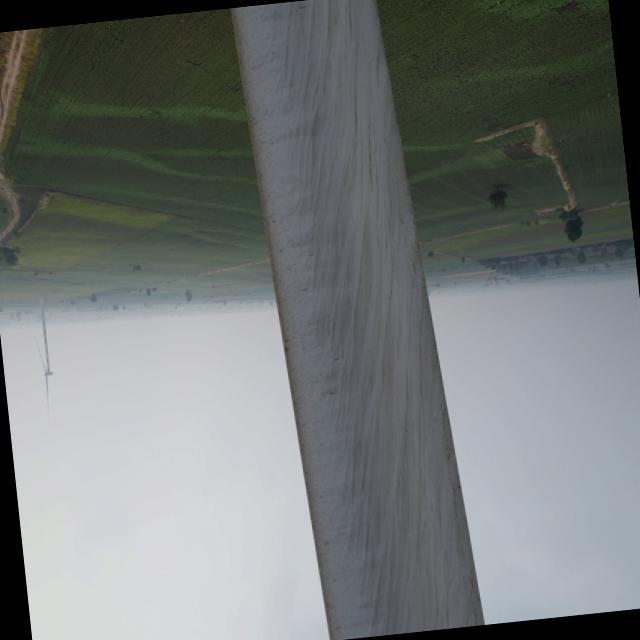Dirt: (234, 1, 487, 640)
